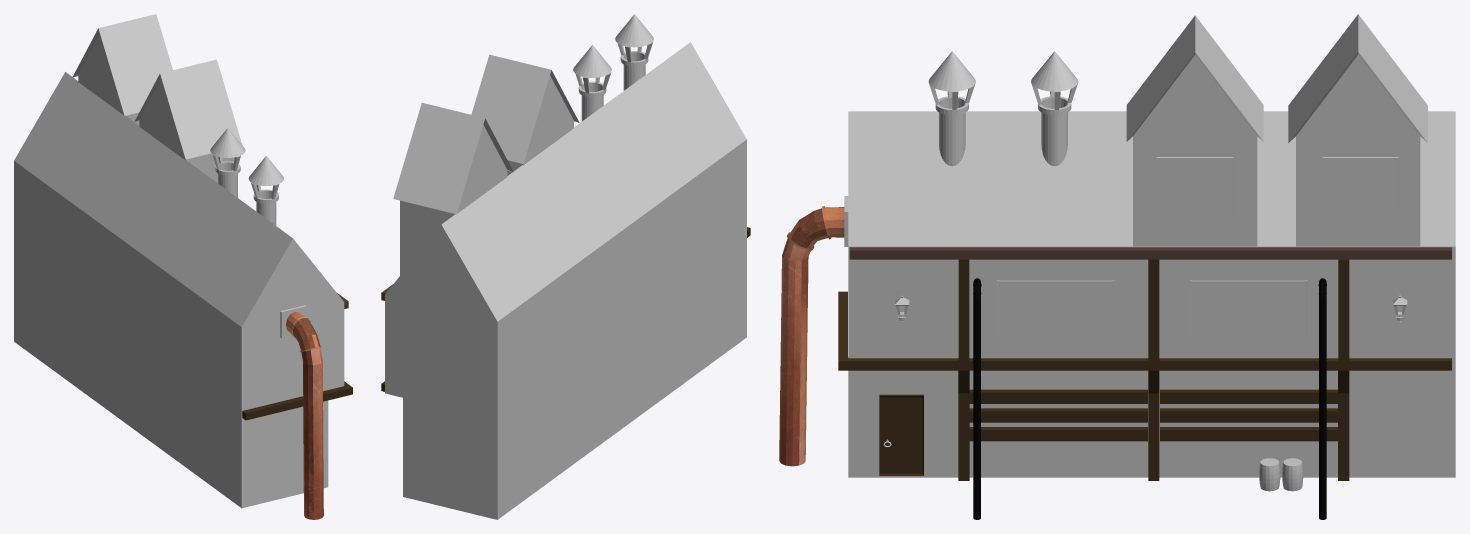
File: House3.fbx
3 views of the same model, side by side, from view 1: azimuth 30°, elevation 25°; view 2: azimuth 150°, elevation 25°; view 3: azimuth 270°, elevation 25° (orthographic). The views are drawn at different scales.
Visible parts, largest first — view 1: Cube.004, Cube.001, Cube.003, Cylinder.002, Дымоход.003, Дымоход.008, Cube.020; view 2: Cube.004, Cube.001, Cube.003, Дымоход.008, Дымоход.003; view 3: Cube.001, Cube.004, Cube.003, Cube.024, Cube.020, Cube.021, Cube.017, Cylinder.002, Cube.079, Cube.018, Cylinder.024, Main Door.003 (+8 smaller).
Part boxes in pixels (bbox=[...]): Cube.004: bbox=[14, 14, 292, 327]; Cube.001: bbox=[14, 34, 344, 417]; Cube.003: bbox=[14, 251, 328, 508]; Cylinder.002: bbox=[286, 312, 323, 519]; Дымоход.003: bbox=[248, 156, 283, 225]; Дымоход.008: bbox=[210, 128, 245, 197]; Cube.020: bbox=[242, 381, 352, 420]; Cube.004: bbox=[393, 42, 746, 321]; Cube.001: bbox=[385, 75, 746, 420]; Cube.003: bbox=[403, 238, 746, 519]; Дымоход.008: bbox=[573, 45, 611, 121]; Дымоход.003: bbox=[615, 14, 653, 90]; Cube.001: bbox=[848, 52, 1455, 367]; Cube.004: bbox=[848, 14, 1455, 246]; Cube.003: bbox=[848, 367, 1455, 477]; Cube.024: bbox=[969, 389, 1337, 441]; Cube.020: bbox=[838, 291, 1451, 370]; Cube.021: bbox=[849, 247, 1451, 259]; Cube.017: bbox=[958, 259, 1349, 480]; Cylinder.002: bbox=[779, 206, 844, 466]; Cube.079: bbox=[1191, 285, 1305, 331]; Cube.018: bbox=[999, 285, 1112, 331]; Cylinder.024: bbox=[973, 278, 1326, 519]; Main Door.003: bbox=[879, 394, 923, 475].
Size of the model in its own units: 268 by 765 by 1016.
